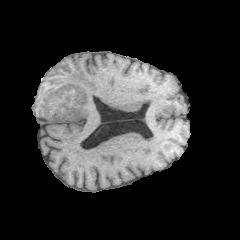glioma: (38, 70, 100, 121)
